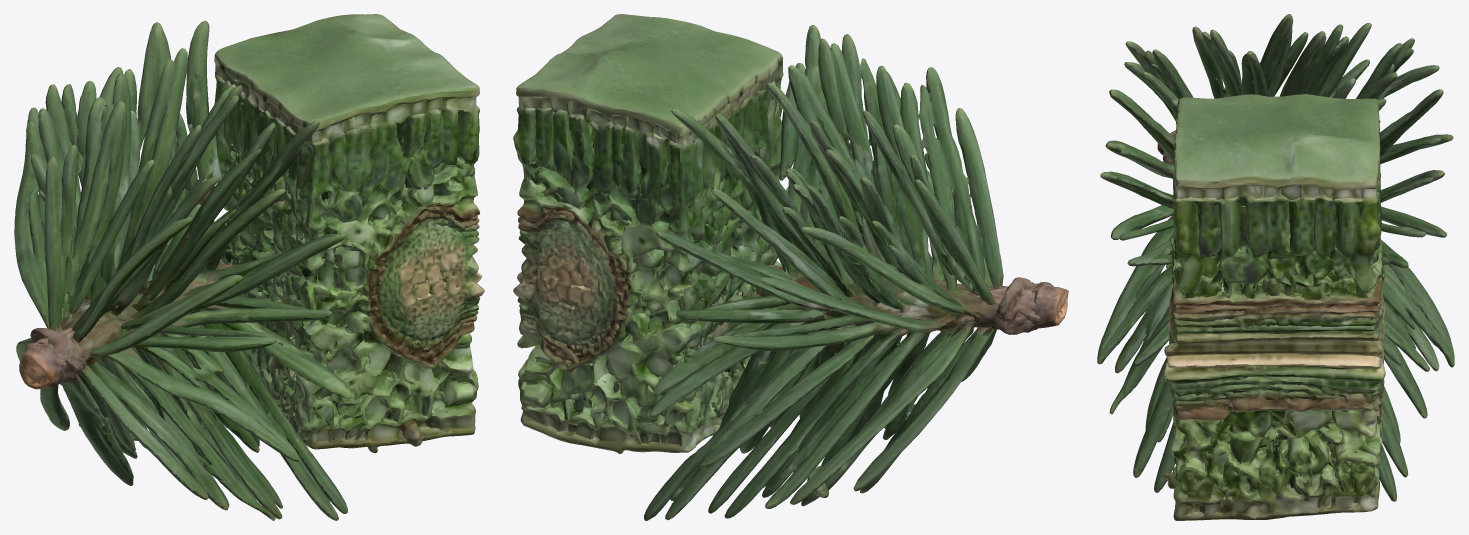
Rendered from leaf-tissue-v8.glb.
3 views of the same model, side by side, from view 1: azimuth 30°, elevation 25°; view 2: azimuth 150°, elevation 25°; view 3: azimuth 270°, elevation 25° (orthographic).
Parts seen in each view (by area): view 1: geometry_0; view 2: geometry_0; view 3: geometry_0.
Part boxes in pixels (x1,y1,x2,y2): geometry_0: (14, 14, 484, 520); geometry_0: (513, 14, 1068, 520); geometry_0: (1097, 14, 1454, 520).
Size of the model in its own units: 0.1199 by 0.1106 by 0.0825.
Materials: 1 (1 with a texture image).
